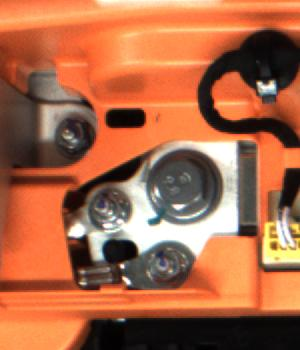nut_b: (149, 147, 220, 224)
